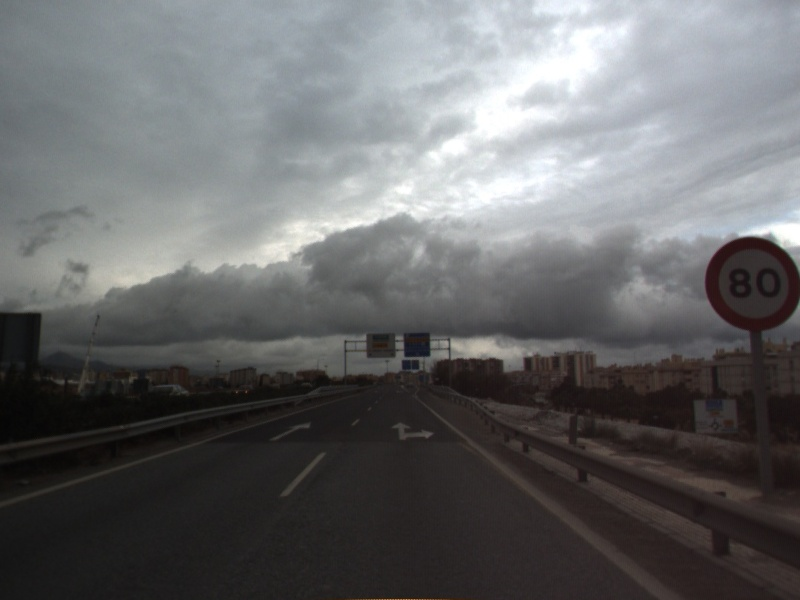STRAIGHT: (267, 419, 314, 443)
STRAIGHT_RIGHT: (389, 420, 437, 442)
